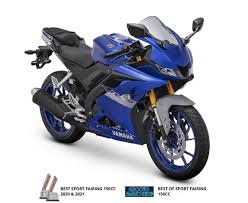motor: (28, 23, 213, 179)
